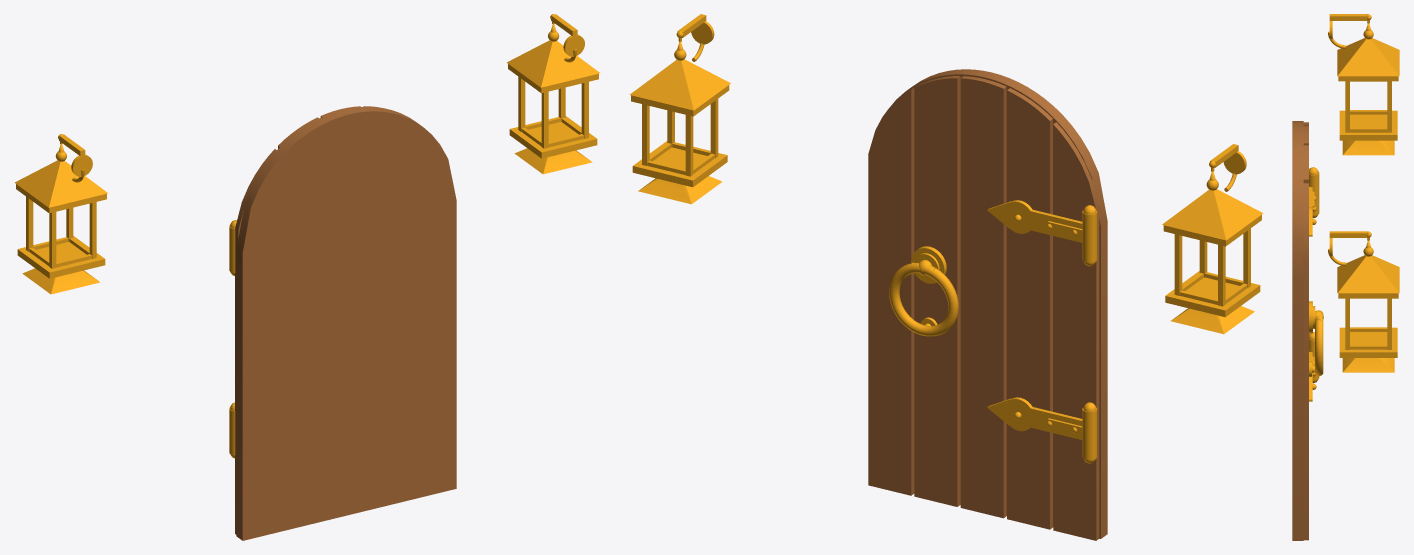
The model's file is HaloShop_Flower_ornaments.glb.
3 renders of one model, left to right at view 1: azimuth 30°, elevation 25°; view 2: azimuth 150°, elevation 25°; view 3: azimuth 270°, elevation 25°, orthographic. The views are drawn at different scales.
Visible parts, largest first — view 1: Orn_HaloShop_Flower_Leaf, Orn_HaloShop_Flower_Lantern0, Orn_HaloShop_Flower_Lantern1; view 2: Orn_HaloShop_Flower_Leaf, Orn_HaloShop_Flower_Lantern0, Orn_HaloShop_Flower_Lantern1, Orn_HaloShop_Flower_Hinge0, Orn_HaloShop_Flower_Hinge1, Orn_HaloShop_Flower_Knocker; view 3: Orn_HaloShop_Flower_Leaf, Orn_HaloShop_Flower_Lantern0, Orn_HaloShop_Flower_Lantern1, Orn_HaloShop_Flower_Knocker, Orn_HaloShop_Flower_Hinge1, Orn_HaloShop_Flower_Hinge0.
Boxes of the visible parts, x1,y1,x2,y2 form: Orn_HaloShop_Flower_Leaf: (235, 106, 456, 540); Orn_HaloShop_Flower_Lantern0: (14, 134, 107, 294); Orn_HaloShop_Flower_Lantern1: (507, 14, 600, 174); Orn_HaloShop_Flower_Leaf: (868, 69, 1107, 540); Orn_HaloShop_Flower_Lantern0: (1162, 144, 1263, 334); Orn_HaloShop_Flower_Lantern1: (629, 14, 730, 204); Orn_HaloShop_Flower_Hinge0: (987, 397, 1097, 463); Orn_HaloShop_Flower_Hinge1: (987, 200, 1097, 266); Orn_HaloShop_Flower_Knocker: (889, 246, 958, 336); Orn_HaloShop_Flower_Leaf: (1292, 121, 1308, 540); Orn_HaloShop_Flower_Lantern0: (1328, 14, 1399, 155); Orn_HaloShop_Flower_Lantern1: (1328, 231, 1399, 372); Orn_HaloShop_Flower_Knocker: (1309, 301, 1323, 376); Orn_HaloShop_Flower_Hinge1: (1309, 167, 1319, 236); Orn_HaloShop_Flower_Hinge0: (1309, 332, 1319, 401).
Size of the model in its own units: 11.1 by 7.88 by 2.07.
